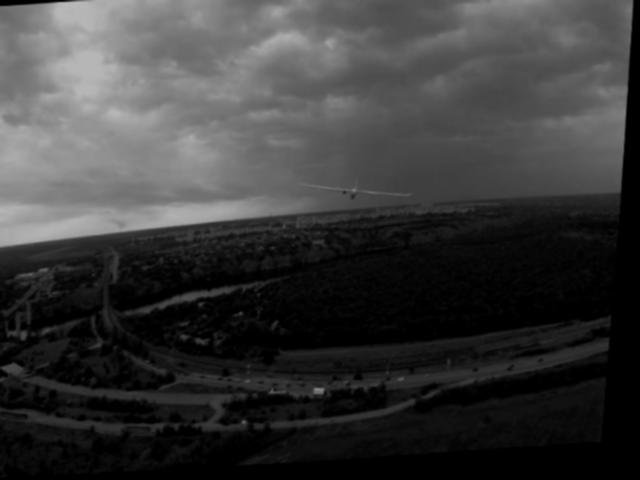hedef: (303, 165, 417, 221)
